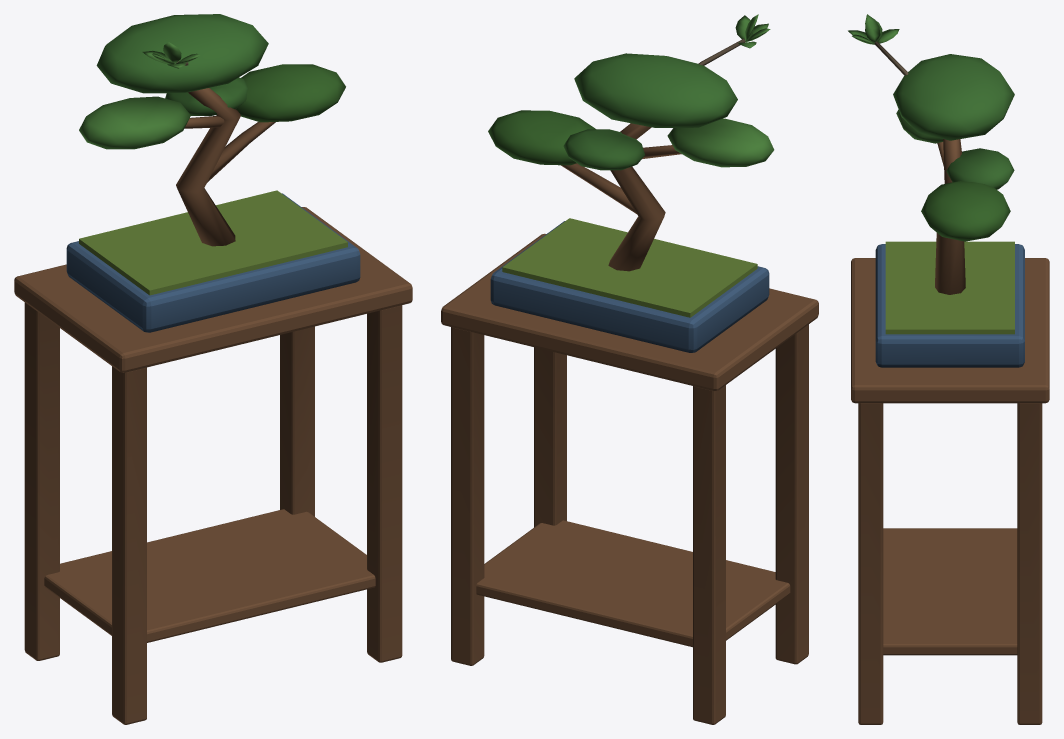
File: bonsai.glb
3 renders of one model, left to right at view 1: azimuth 30°, elevation 25°; view 2: azimuth 150°, elevation 25°; view 3: azimuth 270°, elevation 25°, orthographic. The views are drawn at different scales.
Visible parts, largest first — view 1: bonsai, sprig; view 2: bonsai, sprig; view 3: bonsai, sprig.
Part boxes in pixels (x1=…): bonsai: x1=14, y1=14, x2=412, y2=724; sprig: x1=142, y1=42, x2=200, y2=68; bonsai: x1=441, y1=53, x2=818, y2=724; sprig: x1=698, y1=14, x2=770, y2=65; bonsai: x1=851, y1=54, x2=1049, y2=724; sprig: x1=848, y1=14, x2=908, y2=75.
Bounding box in the file's own units: 0.62 × 1.35 × 0.4074.
